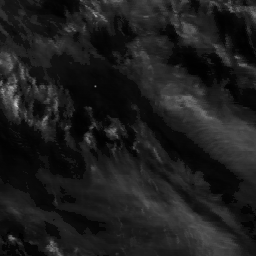Target: (93, 84, 98, 89)
